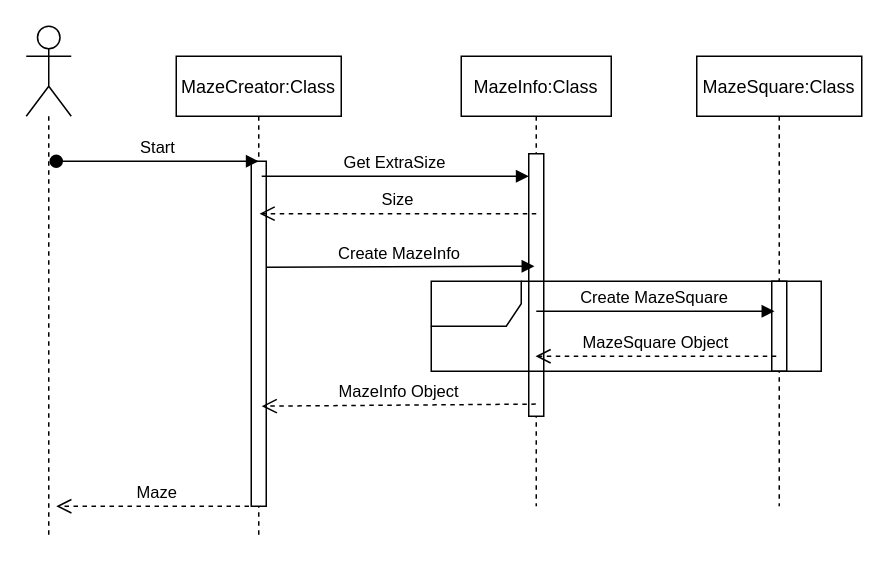
This 888x564 diagram has some shape labels left out. Here are the shapes that lost their labels. From the top down, the centre of each, then its label:
point (48, 70): Actor
point (625, 325): Loop xTime
